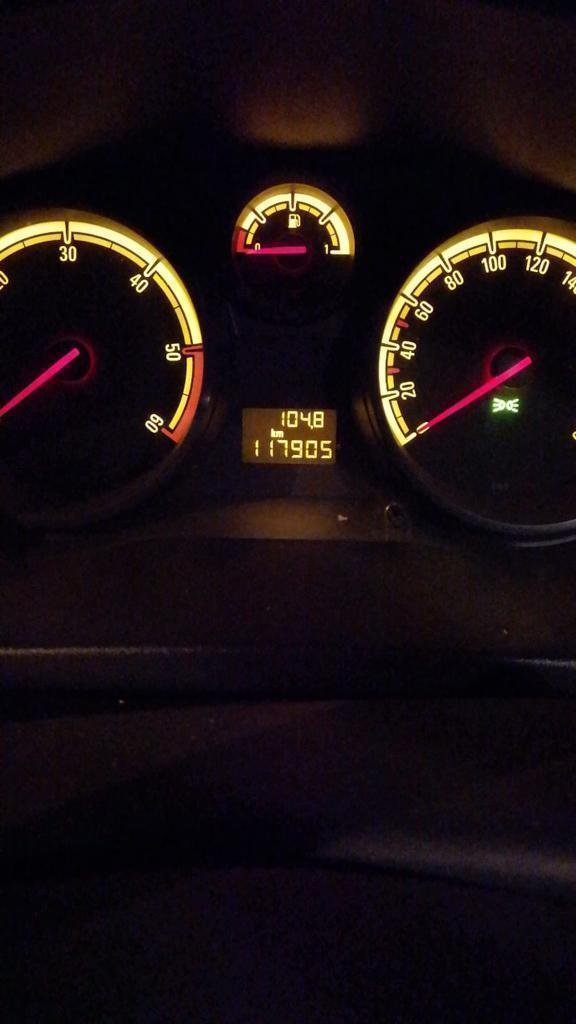,: (310, 424, 313, 430)
0: (304, 439, 318, 459), (286, 410, 298, 428)
1: (254, 438, 261, 458), (268, 439, 274, 458), (280, 410, 285, 427)
4: (299, 411, 311, 426)
5: (319, 439, 332, 459)
7: (275, 439, 288, 458)
8: (312, 409, 324, 428)
9: (290, 439, 303, 459)
X: (275, 430, 284, 437), (270, 427, 275, 437)
odometer: (239, 406, 339, 466)
